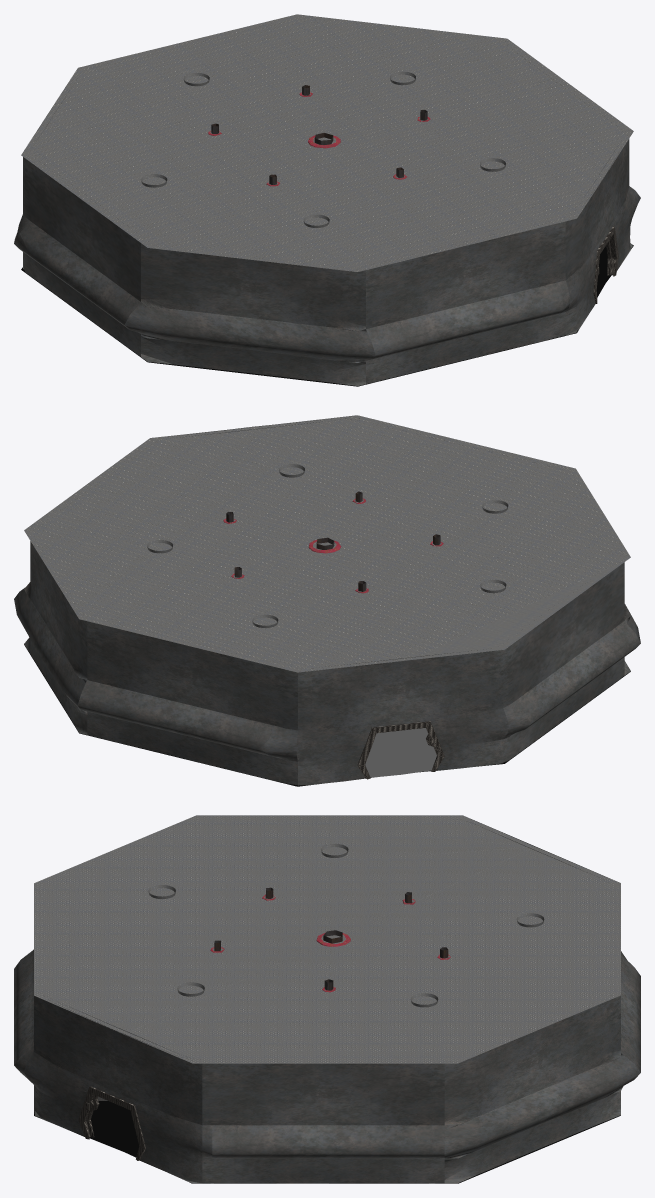
File: generador.obj
The picture shows the model from 3 angles, top to bottom: view 1: azimuth 30°, elevation 25°; view 2: azimuth 150°, elevation 25°; view 3: azimuth 270°, elevation 25°; orthographic projection. The views are drawn at different scales.
Visible parts, largest first — view 1: polySurface273, polySurface255, polySurface262, polySurface226, polySurface253, sala_generador:pCylinder32, polySurface269; view 2: polySurface273, polySurface221, polySurface216, polySurface226, polySurface223, sala_generador:pCylinder32, polySurface269; view 3: polySurface273, polySurface247, polySurface223, polySurface253, sala_generador:pCylinder32, polySurface262, polySurface221, polySurface269.
Boxes of the visible parts, x1=… form: polySurface273: x1=21, y1=14, x2=633, y2=271; polySurface255: x1=124, y1=243, x2=375, y2=385; polySurface262: x1=365, y1=221, x2=570, y2=384; polySurface226: x1=14, y1=157, x2=172, y2=364; polySurface253: x1=565, y1=139, x2=638, y2=335; sala_generador:pCylinder32: x1=21, y1=85, x2=633, y2=386; polySurface269: x1=141, y1=71, x2=505, y2=227; polySurface273: x1=24, y1=415, x2=630, y2=672; polySurface221: x1=77, y1=621, x2=297, y2=785; polySurface216: x1=296, y1=649, x2=508, y2=785; polySurface226: x1=503, y1=562, x2=640, y2=762; polySurface223: x1=14, y1=541, x2=87, y2=734; sala_generador:pCylinder32: x1=24, y1=491, x2=630, y2=786; polySurface269: x1=147, y1=464, x2=508, y2=628; polySurface273: x1=34, y1=815, x2=620, y2=1063; polySurface247: x1=187, y1=1058, x2=455, y2=1183; polySurface223: x1=444, y1=995, x2=640, y2=1183; polySurface253: x1=24, y1=996, x2=202, y2=1183; sala_generador:pCylinder32: x1=34, y1=887, x2=620, y2=1183; polySurface262: x1=14, y1=949, x2=107, y2=1109; polySurface221: x1=621, y1=951, x2=640, y2=1072; polySurface269: x1=148, y1=843, x2=544, y2=1007.
Size of the model in its own units: 128 by 33.64 by 128.
